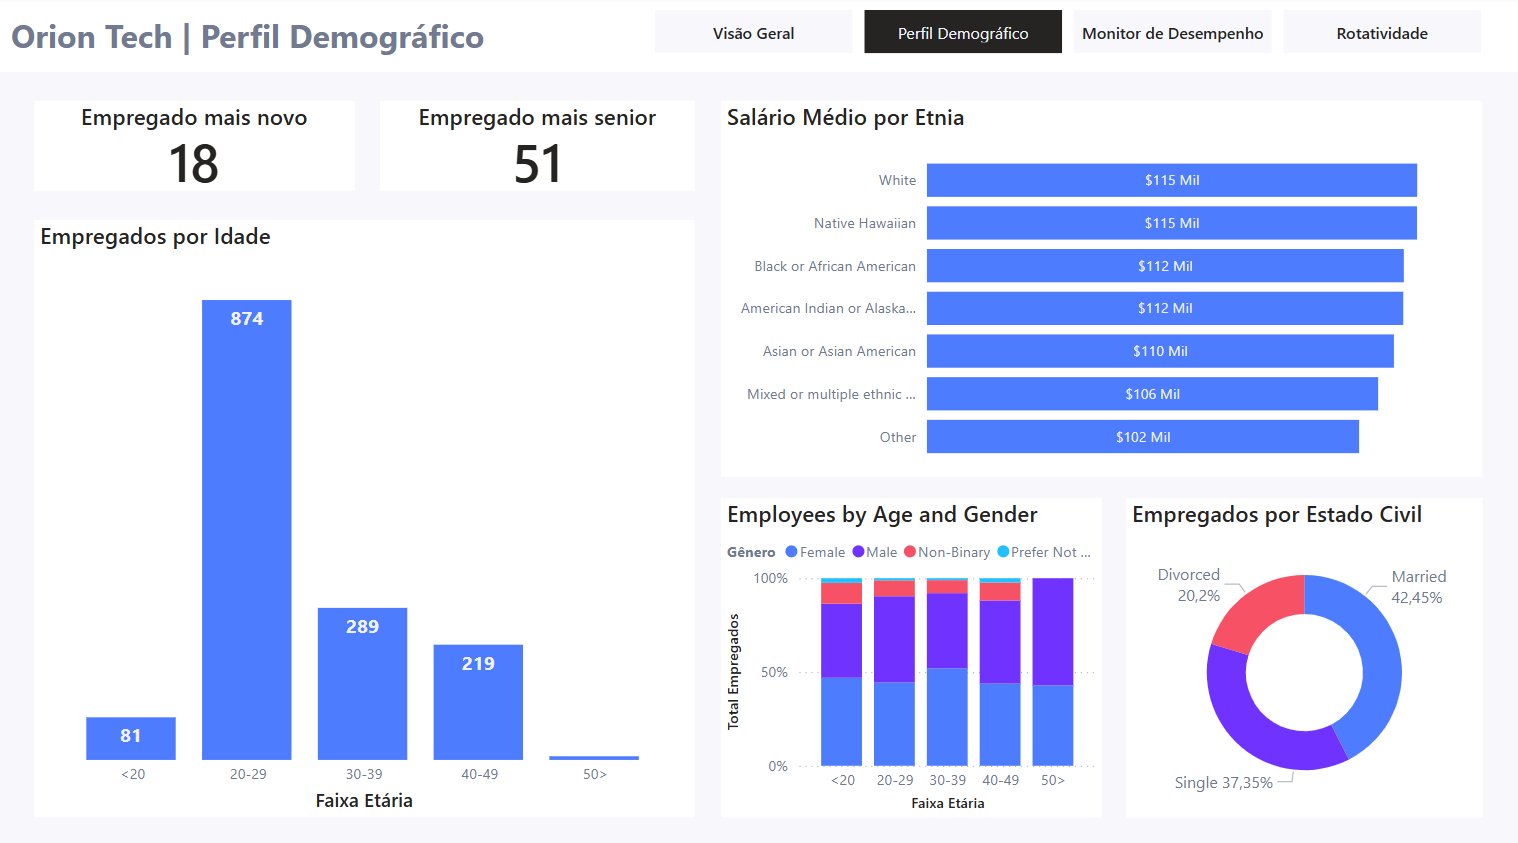

What the dashboard file says about the page in this screenshot:
{"tool":"powerbi","page":{"name":"Perfil Demográfico","canvas":[1280,720],"ordinal":1},"visuals":[{"type":"card","title":"Empregado mais novo","fields":{"Values":["Min(DimEmployee.Age)"]},"box":[32.3,86.9,267.7,74.7],"z":0},{"type":"card","title":"Empregado mais senior","fields":{"Values":["Max(DimEmployee.Age)"]},"box":[321.2,86.9,262.6,74.7],"z":1000},{"type":"columnChart","title":"Empregados por Idade","fields":{"Y":["_Measures.TotalEmployees"],"Category":["DimEmployee.AgeBins"]},"box":[32.3,185.9,551.5,499],"z":2000},{"type":"hundredPercentStackedColumnChart","title":"Employees by Age and Gender","fields":{"Y":["_Measures.TotalEmployees"],"Category":["DimEmployee.AgeBins"],"Series":["DimEmployee.Gender"]},"box":[606.1,418.2,318.2,266.7],"z":3000},{"type":"donutChart","title":"Empregados por Estado Civil","fields":{"Category":["DimEmployee.MaritalStatus"],"Y":["_Measures.TotalEmployees"]},"box":[944.4,418.2,298,266.7],"z":4000},{"type":"clusteredBarChart","title":"Salário Médio por Etnia","fields":{"Y":["_Measures.AverageSalary"],"Category":["DimEmployee.Ethnicity"]},"box":[606.1,86.9,636.4,314.1],"z":5000},{"type":"shape","box":[0,0,1279.8,62.6],"z":6000},{"type":"pageNavigator","box":[551.5,11.1,690.9,36.4],"z":7000},{"type":"textbox","box":[97,5.1,258.6,51.5],"z":8000},{"type":"textbox","box":[8,8,448,48],"z":9000}]}

Visuals, with their boxes in screenshot pixels (x1, y1, x2, y2), scaled from the page's 1280x720 canvas onto the 1518x843 screenshot:
"Empregado mais novo" card: x1=38, y1=102, x2=356, y2=189
"Empregado mais senior" card: x1=381, y1=102, x2=692, y2=189
"Empregados por Idade" columnChart: x1=38, y1=218, x2=692, y2=802
"Employees by Age and Gender" hundredPercentStackedColumnChart: x1=719, y1=490, x2=1096, y2=802
"Empregados por Estado Civil" donutChart: x1=1120, y1=490, x2=1473, y2=802
"Salário Médio por Etnia" clusteredBarChart: x1=719, y1=102, x2=1474, y2=470
shape: x1=0, y1=0, x2=1517, y2=73
pageNavigator: x1=654, y1=13, x2=1473, y2=56
textbox: x1=115, y1=6, x2=422, y2=66
textbox: x1=9, y1=9, x2=541, y2=66
